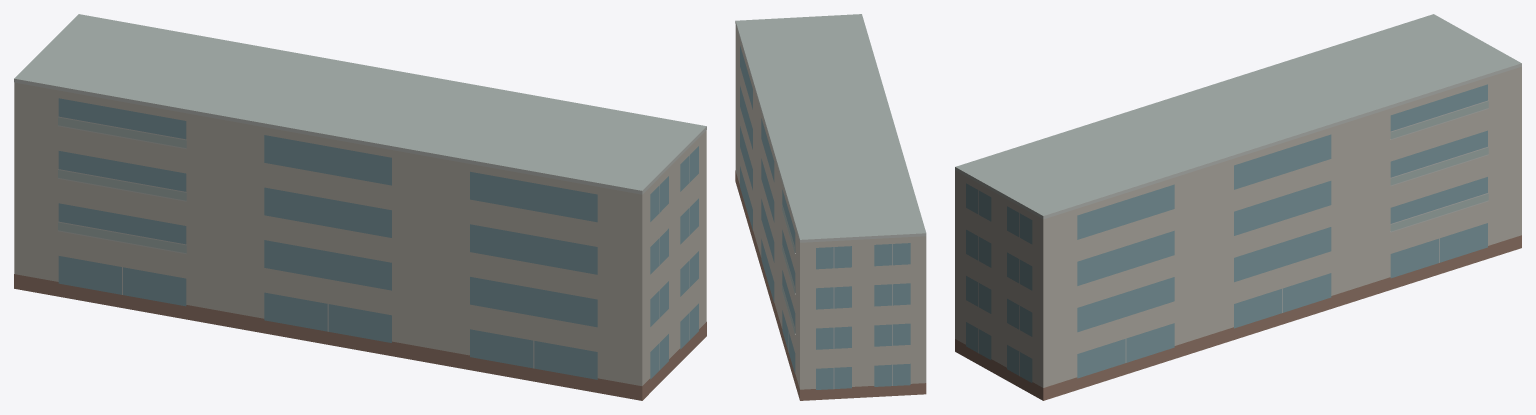
The model's file is residential-d65faf47-8178-4501-9a13-6df793cf9c7e.glb.
The picture shows the model from 3 angles, left to right: view 1: azimuth 30°, elevation 25°; view 2: azimuth 150°, elevation 25°; view 3: azimuth 270°, elevation 25°; orthographic projection. The views are drawn at different scales.
Parts seen in each view (by area): view 1: residential-d65faf47-8178-4501-9a13-6df793cf9c7e.tmp; view 2: residential-d65faf47-8178-4501-9a13-6df793cf9c7e.tmp; view 3: residential-d65faf47-8178-4501-9a13-6df793cf9c7e.tmp.
Boxes of the visible parts, <box> form: residential-d65faf47-8178-4501-9a13-6df793cf9c7e.tmp: <box>14,14,706,400</box>; residential-d65faf47-8178-4501-9a13-6df793cf9c7e.tmp: <box>735,14,926,400</box>; residential-d65faf47-8178-4501-9a13-6df793cf9c7e.tmp: <box>955,14,1521,400</box>.
Bounding box in the file's own units: 31.56 × 13.45 × 37.39.
